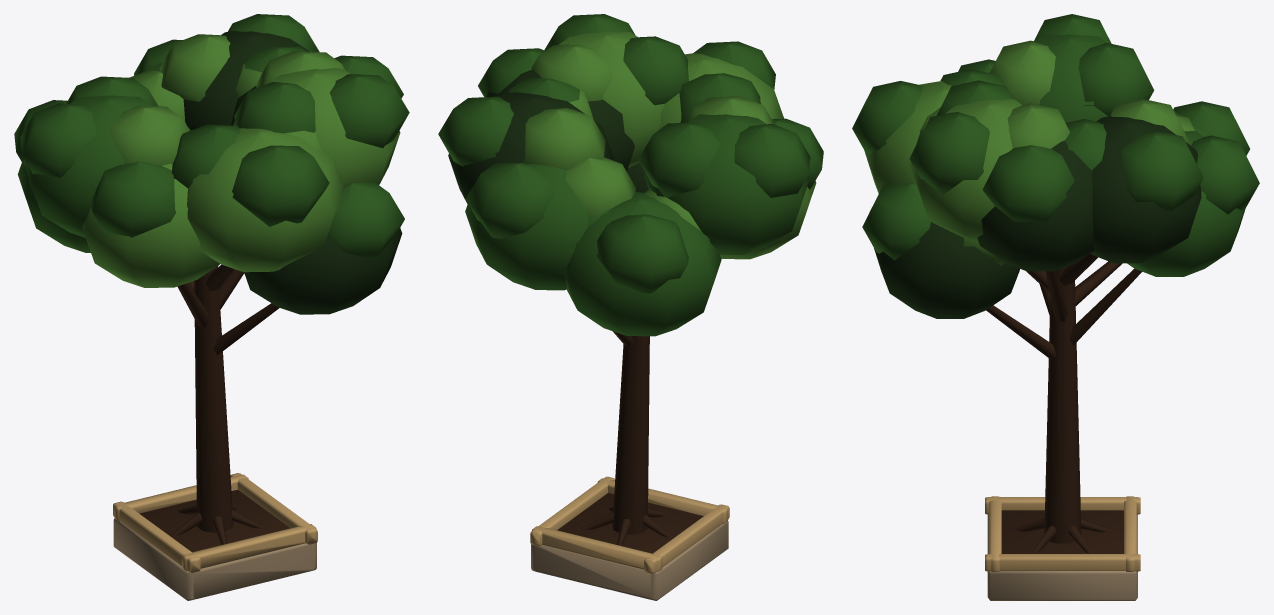
Rendered from PV_StreetTree2.fbx.
The picture shows the model from 3 angles, left to right: view 1: azimuth 30°, elevation 25°; view 2: azimuth 150°, elevation 25°; view 3: azimuth 270°, elevation 25°; orthographic projection. The views are drawn at different scales.
Parts seen in each view (by area): view 1: PV_StreetTree2_LOD0; view 2: PV_StreetTree2_LOD0; view 3: PV_StreetTree2_LOD0.
Boxes of the visible parts, x1,y1,x2,y2 form: PV_StreetTree2_LOD0: (14, 14, 409, 600); PV_StreetTree2_LOD0: (438, 14, 823, 600); PV_StreetTree2_LOD0: (852, 14, 1259, 600).
Size of what is drawn, in the model's own units: 3.89 by 5.29 by 3.93.
Materials: 1 (1 with a texture image).
